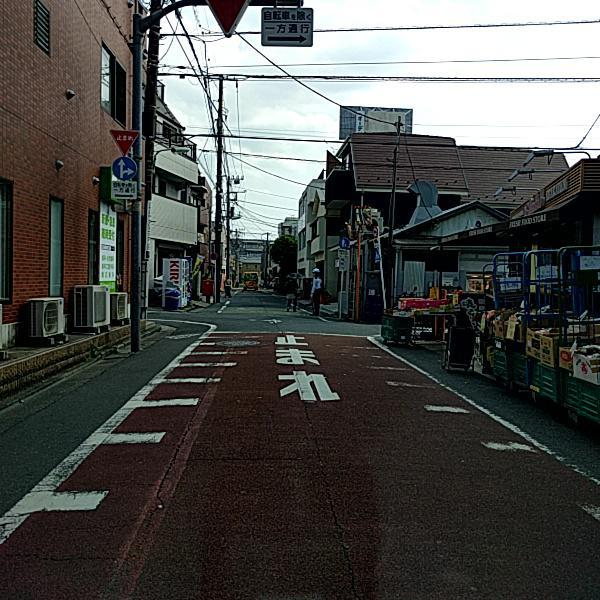D10: (7, 544, 124, 565), (191, 449, 317, 464)
D44: (0, 358, 185, 581)
D50: (217, 338, 260, 347)
